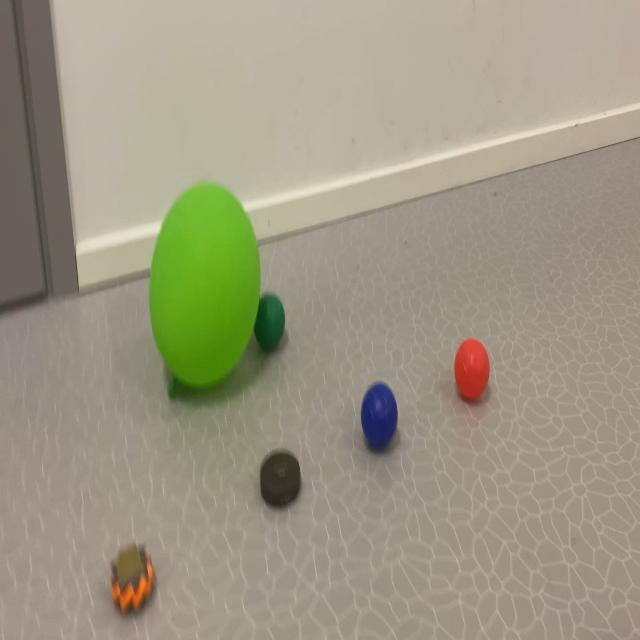blue ball: (353, 384, 404, 451)
green ball: (264, 285, 288, 356)
red ball: (448, 342, 493, 407)
